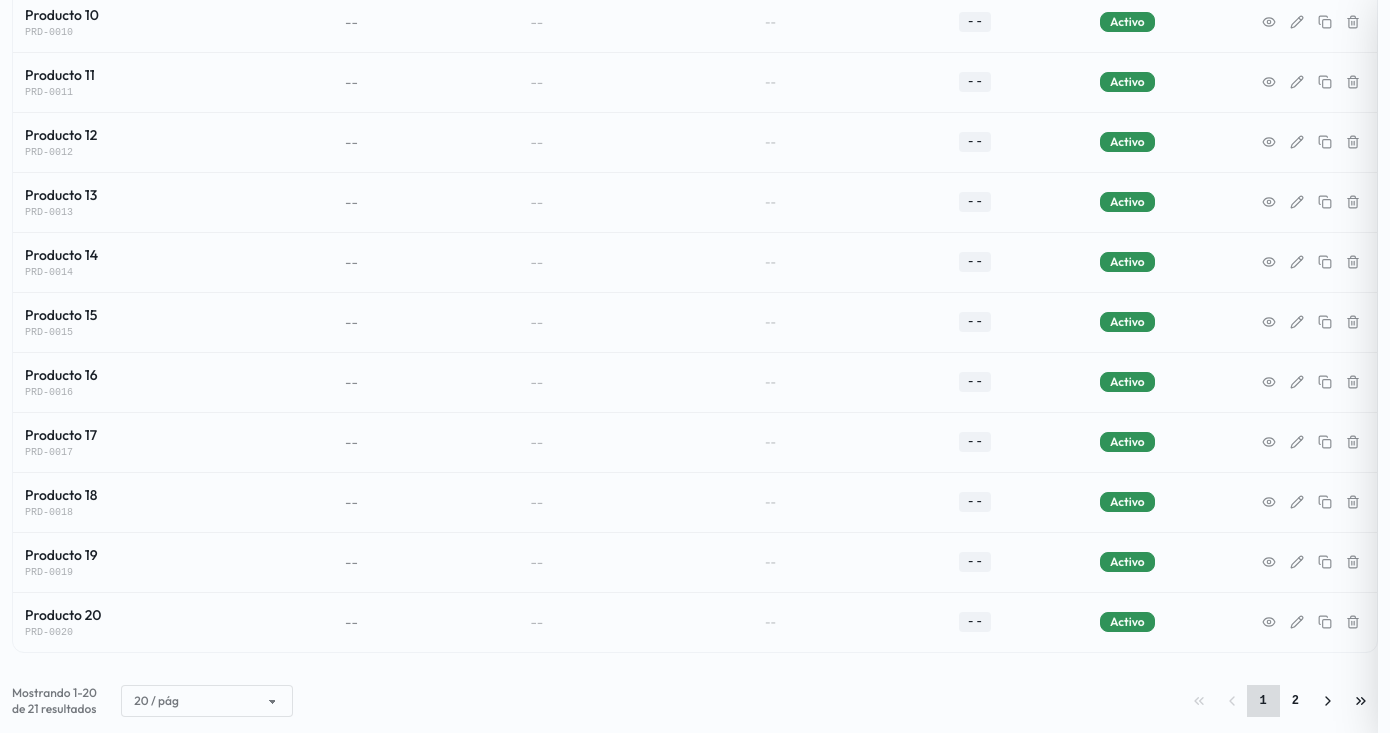
Test: ProductosTab pagination › shows controls for 21 products and requests the second page
The image size is (1390, 733).
(page scrolled)
Expected: the text "Mostrando 1-20 de 21 resultados" is shown, x1=12 y1=684 x2=105 y2=716
Step 1. Click the button named "Página siguiente" → (1328, 700), box x1=1311 y1=684 x2=1345 y2=716
(page scrolled)
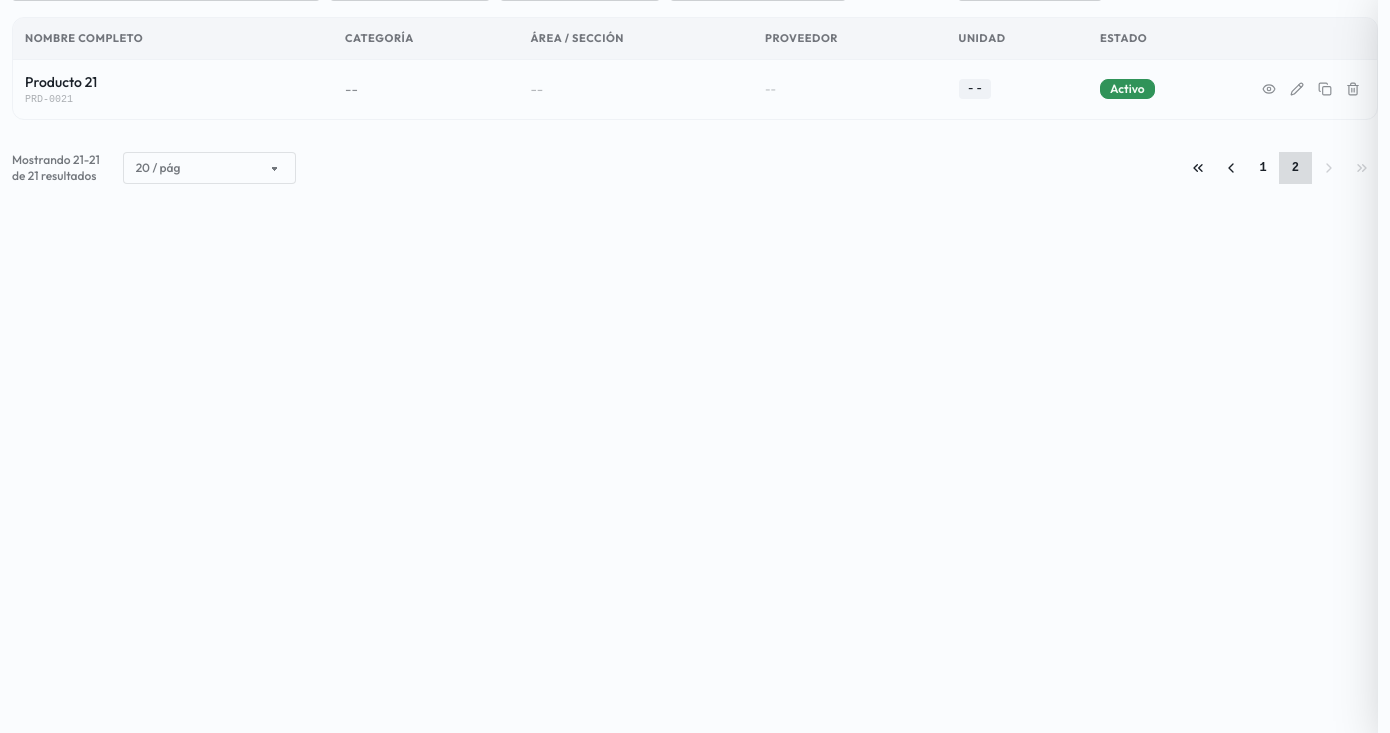
Expected: the text "Mostrando 21-21 de 21 resultados" is shown, x1=12 y1=152 x2=107 y2=184
Expected: the text "Producto 21" is shown, x1=25 y1=72 x2=97 y2=90
